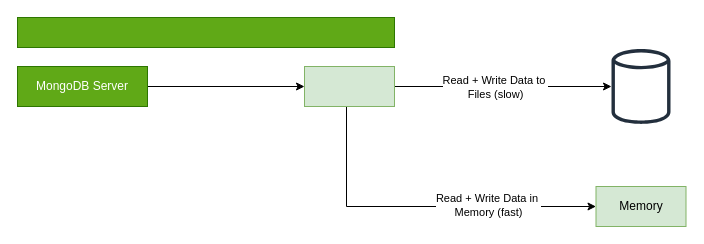
This 704x244 diagram has some shape labels left out. The box of each missing label's shape, as (x1, y1, x2, y2) in pixels:
Data: (16, 16, 394, 48)
Storage Engine: (304, 66, 394, 106)
